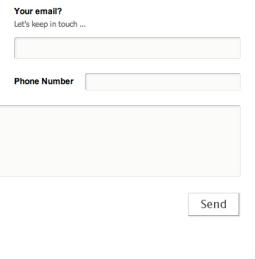button: (186, 192, 240, 216)
field: (13, 36, 241, 60), (83, 72, 241, 93)
field_with_label: (11, 7, 242, 63), (12, 70, 244, 95)
